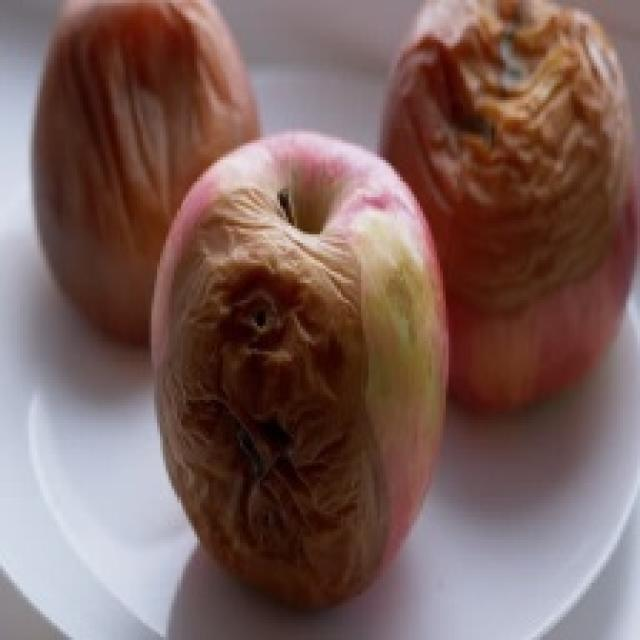rotten_apple: (163, 134, 448, 606), (447, 3, 636, 391), (34, 0, 189, 220)
